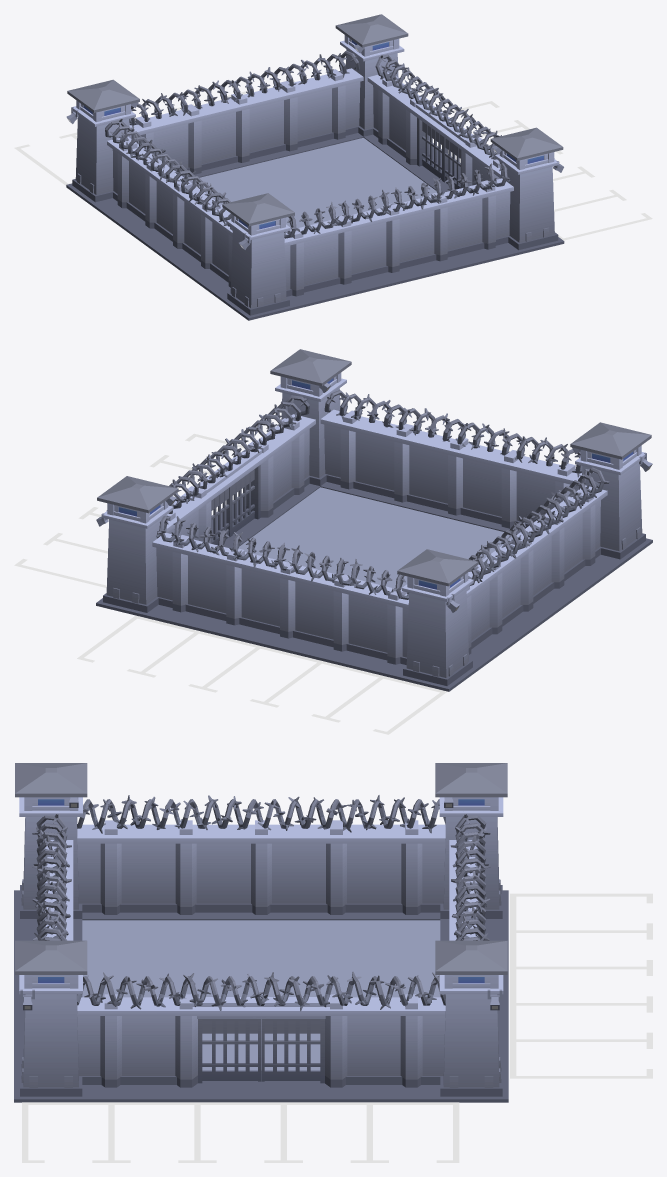
File: prison.glb
3 views of the same model, one above another, from view 1: azimuth 30°, elevation 25°; view 2: azimuth 150°, elevation 25°; view 3: azimuth 270°, elevation 25° (orthographic). The views are drawn at different scales.
Parts seen in each view (by area): view 1: razmetka new fonari.001; view 2: razmetka new fonari.001; view 3: razmetka new fonari.001.
Part boxes in pixels (<box>): razmetka new fonari.001: <box>14,14,652,320</box>; razmetka new fonari.001: <box>14,349,652,734</box>; razmetka new fonari.001: <box>14,763,652,1162</box>.
Size of the model in its own units: 16.57 by 3.95 by 16.47.
Materials: 1 (1 with a texture image).
